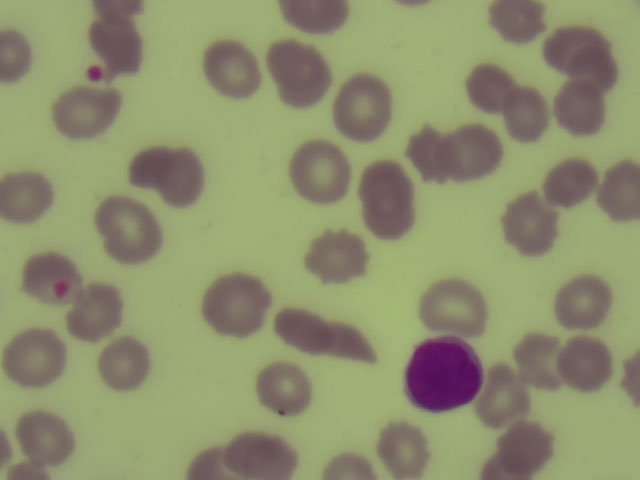Platelets: (85, 61, 104, 83), (59, 285, 69, 300)
RBC: (126, 144, 210, 207), (207, 269, 270, 339), (423, 277, 494, 338), (361, 159, 414, 239), (97, 197, 162, 262), (335, 72, 393, 141), (13, 406, 76, 466), (294, 140, 350, 207), (445, 121, 501, 185), (276, 39, 329, 106), (5, 325, 65, 383), (502, 190, 558, 252), (24, 249, 81, 307), (257, 360, 313, 417), (555, 273, 611, 329), (91, 24, 151, 76), (56, 92, 125, 137), (378, 423, 432, 480), (230, 435, 298, 480), (66, 284, 121, 337), (309, 233, 366, 284), (209, 41, 260, 96), (519, 337, 564, 398), (555, 82, 607, 134), (503, 421, 552, 474), (484, 364, 525, 426), (1, 175, 55, 222), (278, 312, 335, 356), (488, 1, 545, 45), (564, 338, 613, 389), (277, 4, 348, 39), (549, 26, 606, 69), (103, 342, 153, 389), (599, 163, 640, 220), (336, 321, 388, 365), (575, 48, 625, 91), (409, 127, 445, 180), (4, 31, 37, 88), (482, 448, 537, 480), (513, 85, 545, 139), (319, 451, 378, 480), (555, 161, 594, 204), (472, 69, 509, 114), (183, 450, 228, 480), (92, 1, 142, 19), (12, 462, 53, 478), (628, 351, 640, 402), (1, 428, 11, 472), (393, 1, 429, 6)
WBC: (406, 342, 484, 413)
